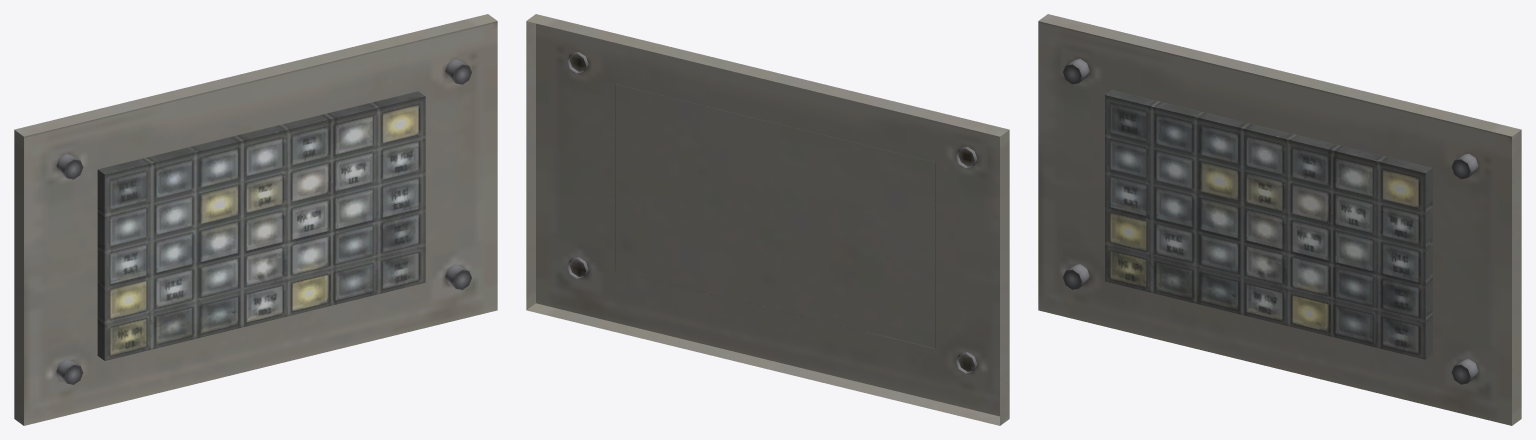
Rendered from ny_harbor_slava_interior_props_console_lod0.glb.
3 renders of one model, left to right at view 1: azimuth 30°, elevation 25°; view 2: azimuth 150°, elevation 25°; view 3: azimuth 330°, elevation 25°, orthographic.
Parts seen in each view (by area): view 1: surf0; view 2: surf0; view 3: surf0.
Part boxes in pixels (box(x1,y1,x2,y2)): surf0: box(14, 14, 497, 425); surf0: box(526, 14, 1009, 425); surf0: box(1038, 14, 1521, 425).
Bounding box in the file's own units: 17.05 × 9.95 × 1.09.
